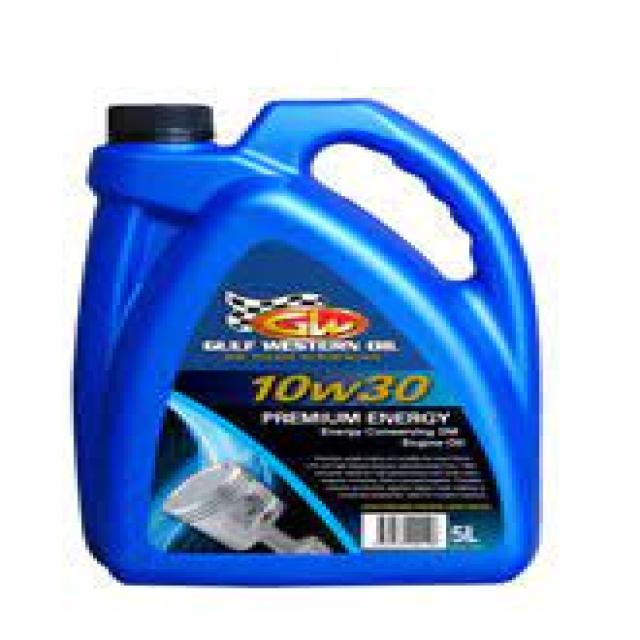motor_oil: (74, 90, 556, 591)
